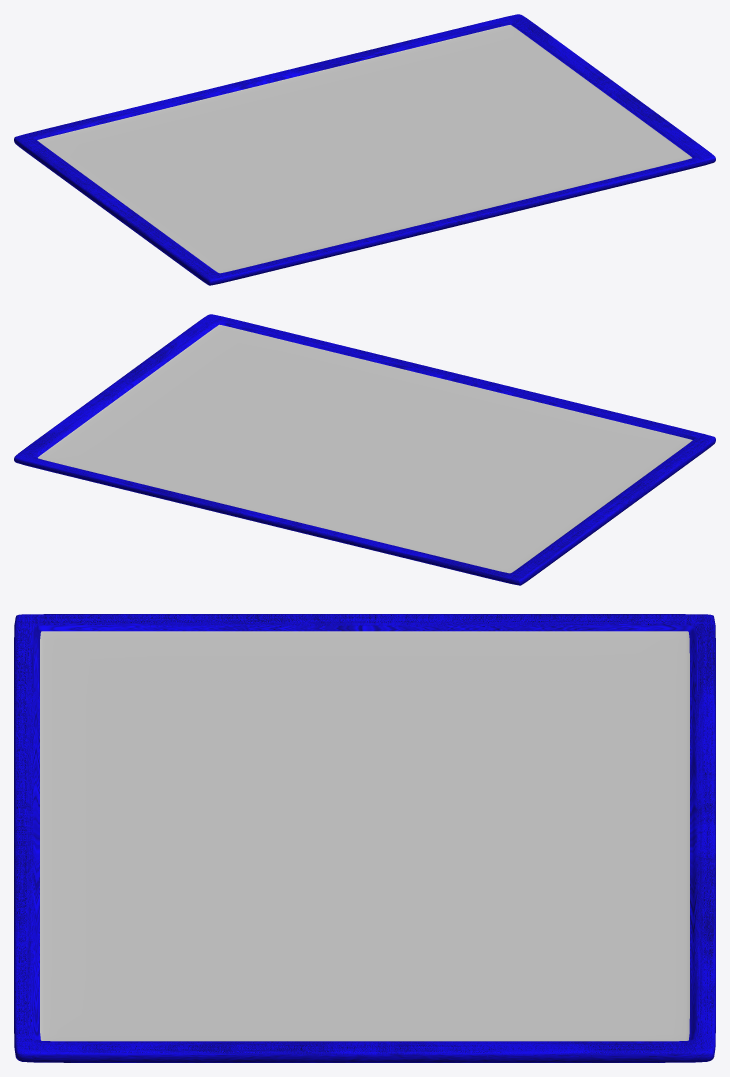
The model's file is placemat.fbx.
3 views of the same model, one above another, from view 1: azimuth 30°, elevation 25°; view 2: azimuth 150°, elevation 25°; view 3: azimuth 270°, elevation 25° (orthographic). The views are drawn at different scales.
Visible parts, largest first — view 1: pCube1; view 2: pCube1; view 3: pCube1.
Boxes of the visible parts, left/top/right/bottom form: pCube1: left=14, top=14, right=715, bottom=285; pCube1: left=14, top=314, right=715, bottom=585; pCube1: left=14, top=614, right=715, bottom=1062.
Size of the model in its own units: 2.27 by 0.0311 by 1.53.
